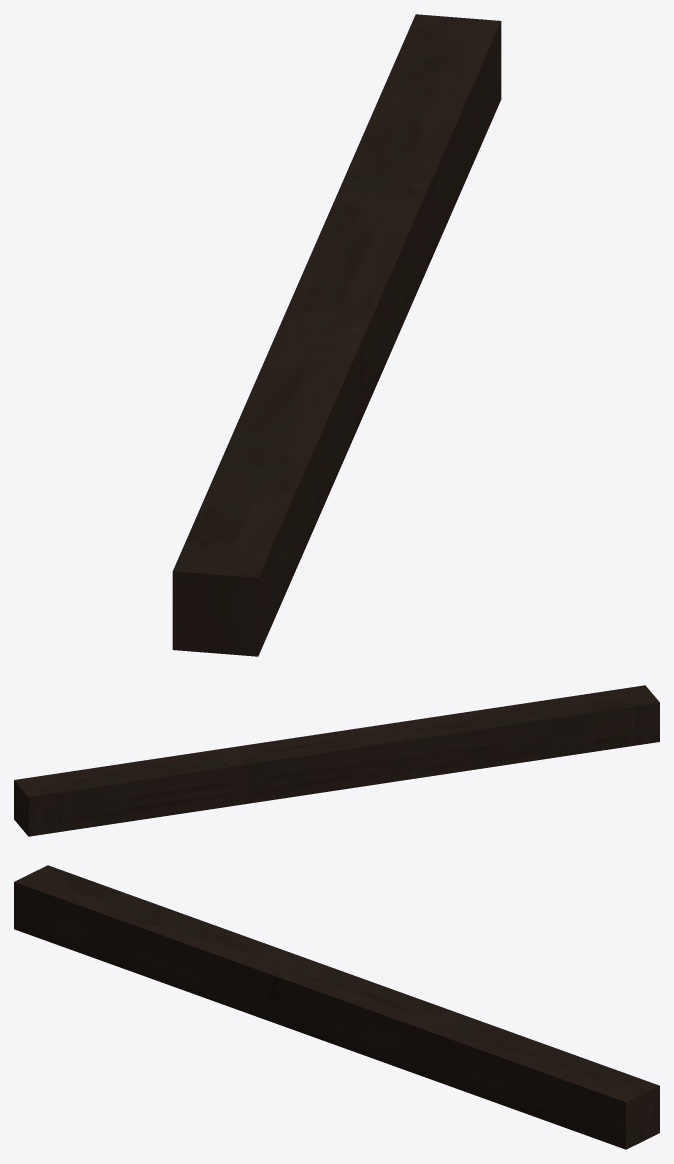
The model's file is ladder_support__side_rail_0.glb.
The picture shows the model from 3 angles, top to bottom: view 1: azimuth 30°, elevation 25°; view 2: azimuth 150°, elevation 25°; view 3: azimuth 270°, elevation 25°; orthographic projection. The views are drawn at different scales.
Parts seen in each view (by area): view 1: world; view 2: world; view 3: world.
Boxes of the visible parts, bbox=[...] form: world: bbox=[172, 14, 501, 656]; world: bbox=[14, 685, 659, 836]; world: bbox=[14, 865, 659, 1149].
Size of the model in its own units: 0.2798 by 0.026 by 0.3219.
Materials: 1 (1 with a texture image).
